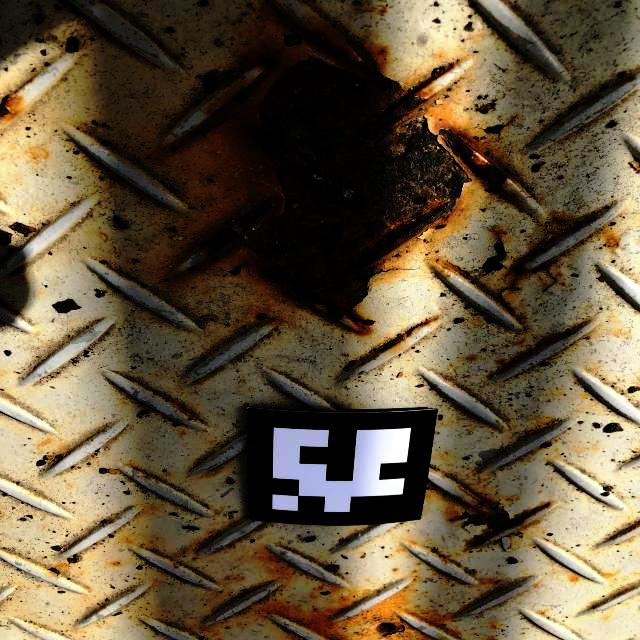Corrosion: (164, 9, 522, 333), (256, 576, 456, 640), (444, 488, 552, 548), (487, 321, 595, 379), (533, 214, 606, 261), (488, 259, 532, 318), (468, 229, 512, 281), (376, 322, 431, 358), (430, 258, 476, 286), (260, 555, 290, 574), (0, 94, 18, 124), (543, 261, 559, 292), (175, 408, 195, 421), (604, 234, 620, 250), (623, 522, 640, 535), (477, 578, 501, 585), (201, 622, 216, 632), (486, 637, 502, 640)
